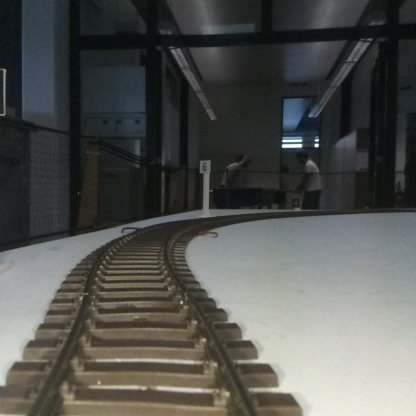white-info-6: (199, 159, 210, 214)
